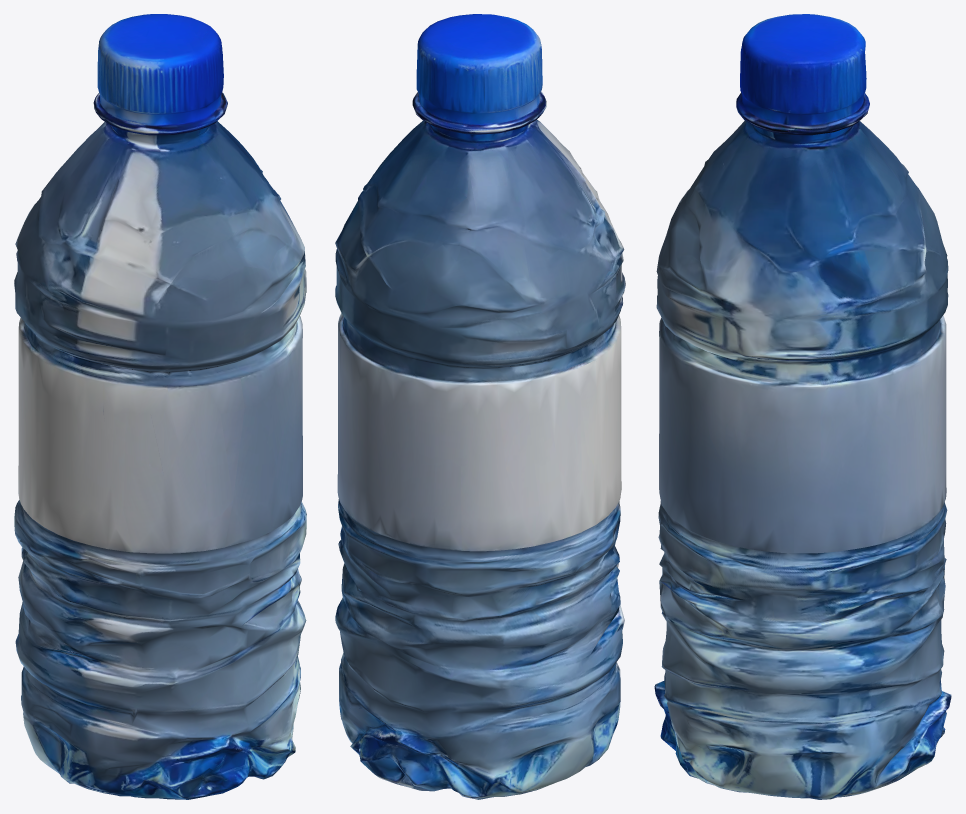
The model's file is kit-garrafa-agua.glb.
3 views of the same model, side by side, from view 1: azimuth 30°, elevation 25°; view 2: azimuth 150°, elevation 25°; view 3: azimuth 270°, elevation 25° (orthographic).
Visible parts, largest first — view 1: tripo_node_a2fe7044-14e7-439c-982a-04ad1d1538b2; view 2: tripo_node_a2fe7044-14e7-439c-982a-04ad1d1538b2; view 3: tripo_node_a2fe7044-14e7-439c-982a-04ad1d1538b2.
Part boxes in pixels (x1=…): tripo_node_a2fe7044-14e7-439c-982a-04ad1d1538b2: x1=14, y1=14, x2=306, y2=799; tripo_node_a2fe7044-14e7-439c-982a-04ad1d1538b2: x1=335, y1=14, x2=625, y2=799; tripo_node_a2fe7044-14e7-439c-982a-04ad1d1538b2: x1=654, y1=14, x2=951, y2=799.
Size of the model in its own units: 0.3651 by 0.981 by 0.3693.
1 material, 1 textured.
